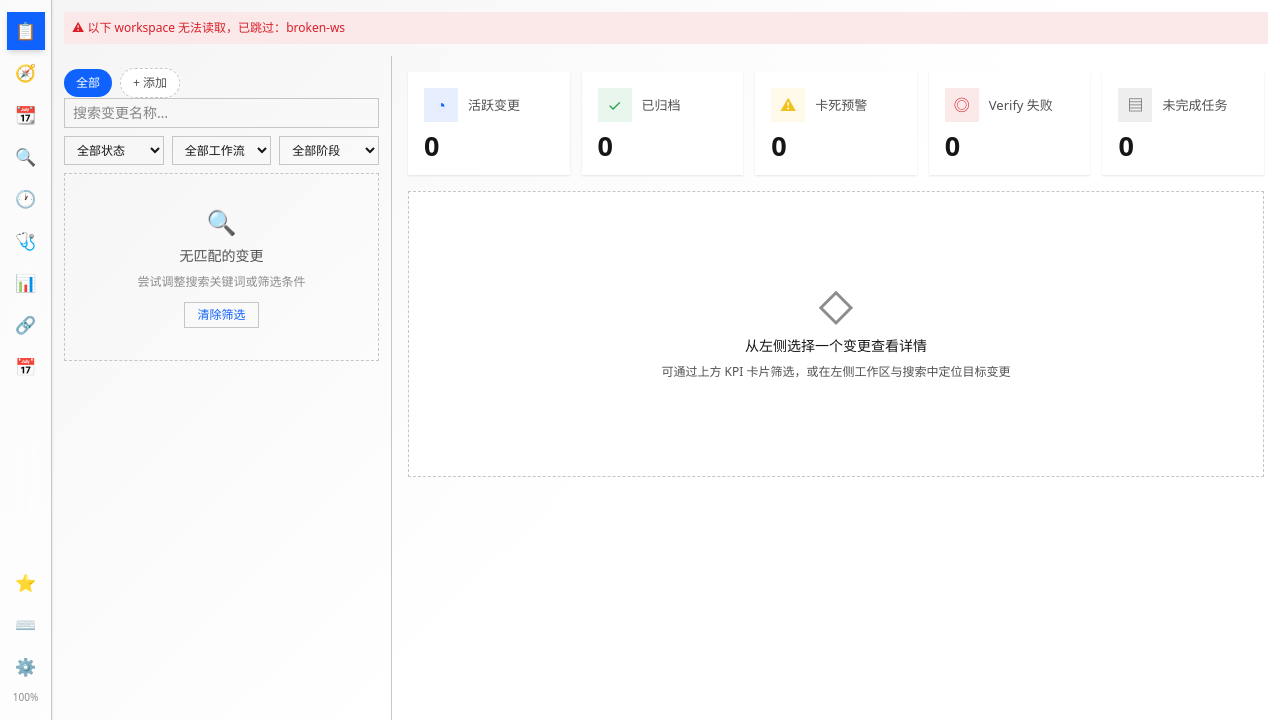
Test: App view switcher › switches to the Lint view and mounts LintPanel
Expected: the text "⚠ 以下 workspace 无法读取，已跳过：broken-ws" is shown, [64, 12, 1268, 44]
Click the button named "文档健康" at [26, 241], box [6, 222, 44, 260]
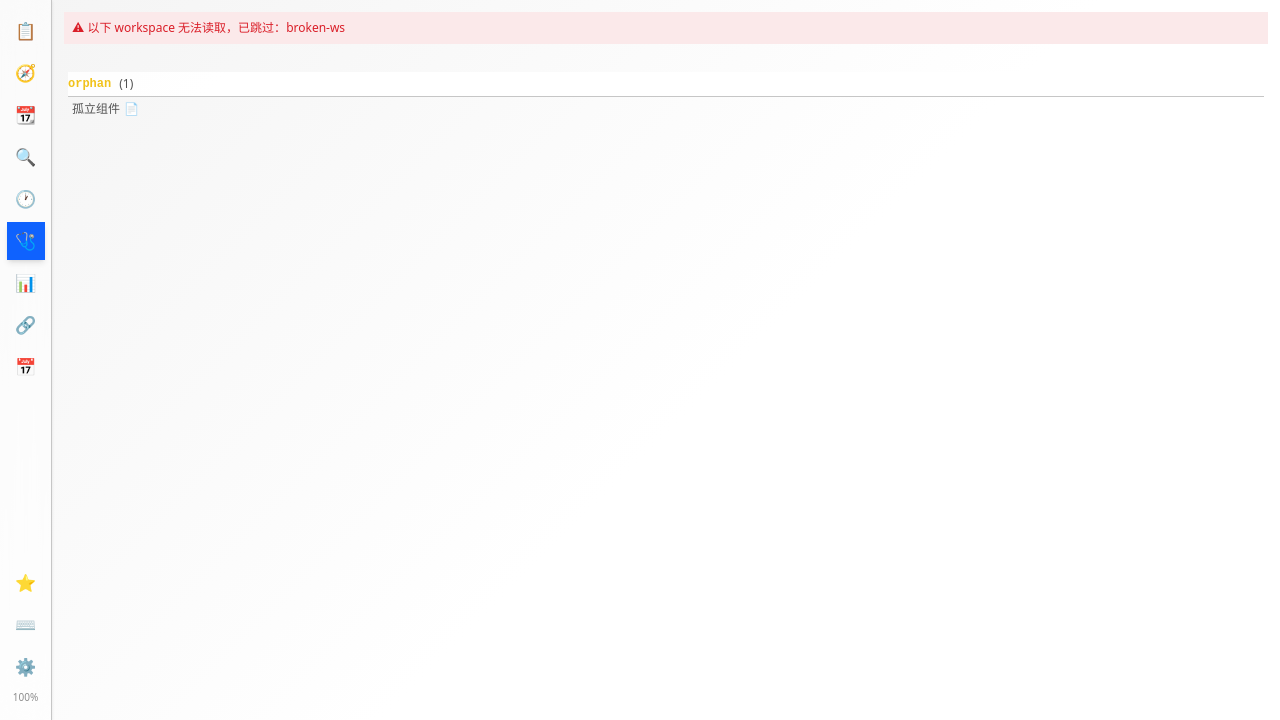
Now the text "orphan" is shown, box [68, 76, 111, 92]
Now the element with test id "kpi-grid" is gone
